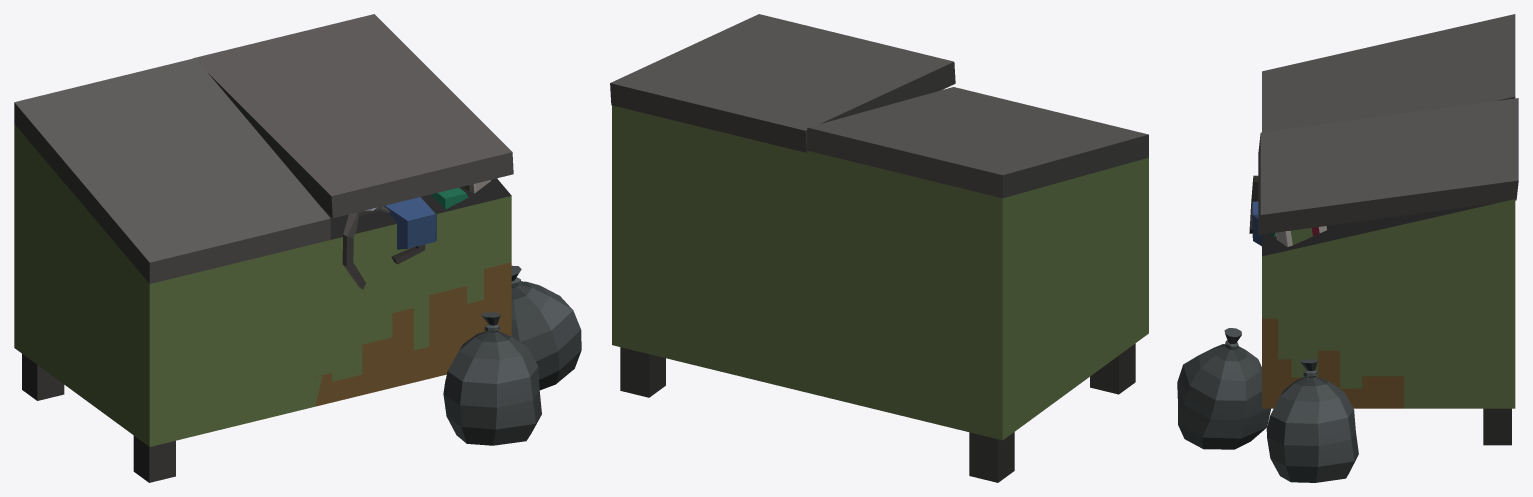
Rendered from SA_Prop_Dumpster_01.glb.
3 renders of one model, left to right at view 1: azimuth 30°, elevation 25°; view 2: azimuth 150°, elevation 25°; view 3: azimuth 270°, elevation 25°, orthographic. The views are drawn at different scales.
Visible parts, largest first — view 1: SA_Prop_Dumpster_01; view 2: SA_Prop_Dumpster_01; view 3: SA_Prop_Dumpster_01.
Boxes of the visible parts, box(x1,y1,x2,y2) form: SA_Prop_Dumpster_01: box(14, 14, 581, 482); SA_Prop_Dumpster_01: box(610, 14, 1148, 482); SA_Prop_Dumpster_01: box(1177, 14, 1518, 482).
Bounding box in the file's own units: 2.07 × 1.32 × 1.46.
1 material, 1 textured.
